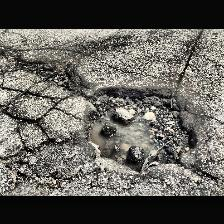pothole: (80, 84, 200, 172), (18, 57, 84, 92)
